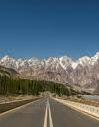sharp_turn: (4, 88, 89, 127)
